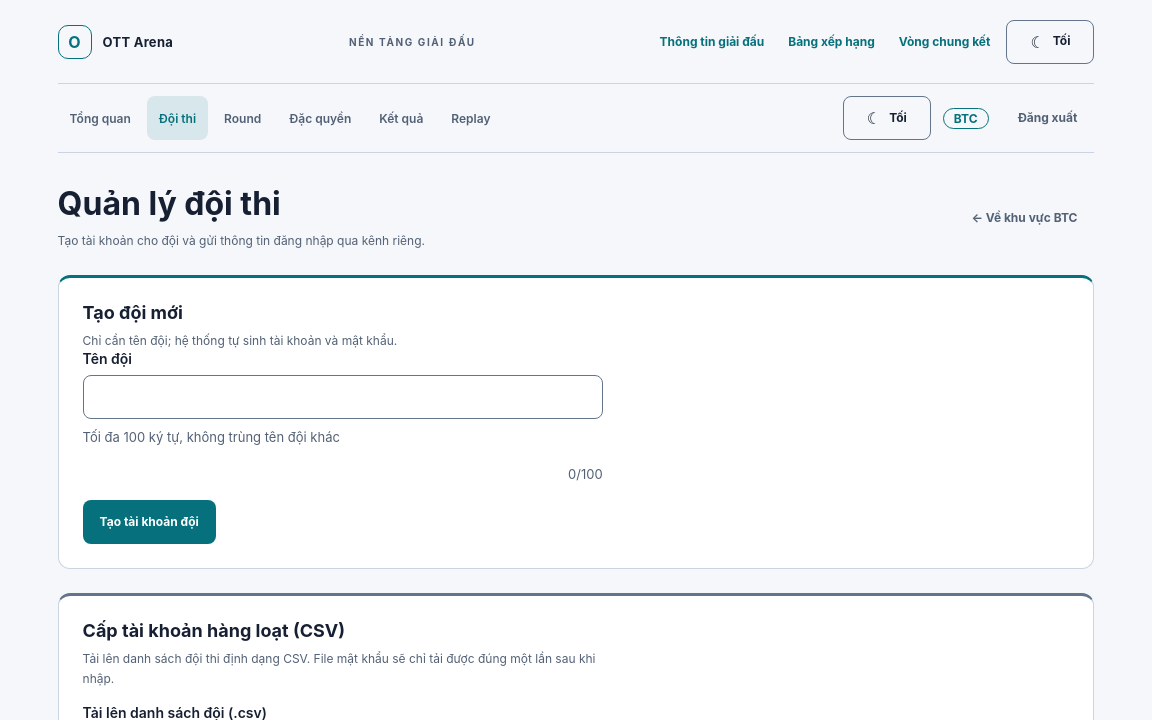
Test case: admin teams UI › shows name-taken at the field with an alert and marks it invalid
Type "Alpha" into the field labelled "Tên đội". click: point(343, 397)
box: [83,375,603,419]
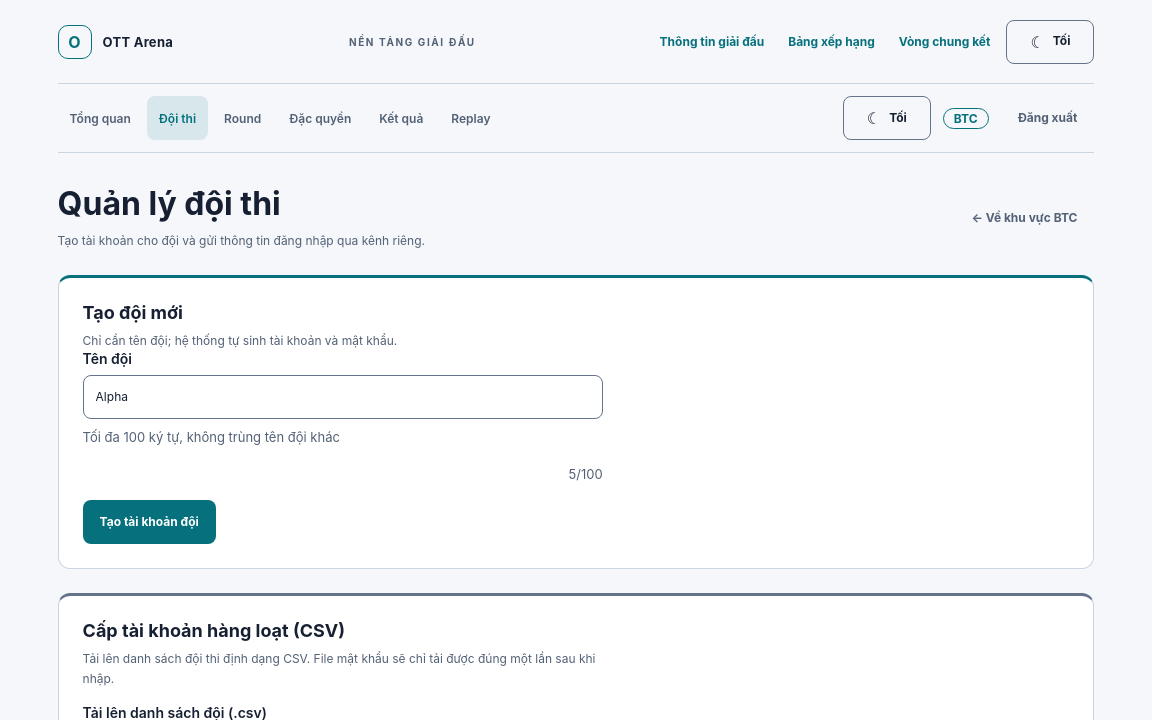
Submit the form named "tạo đội", box [83,350,603,544]
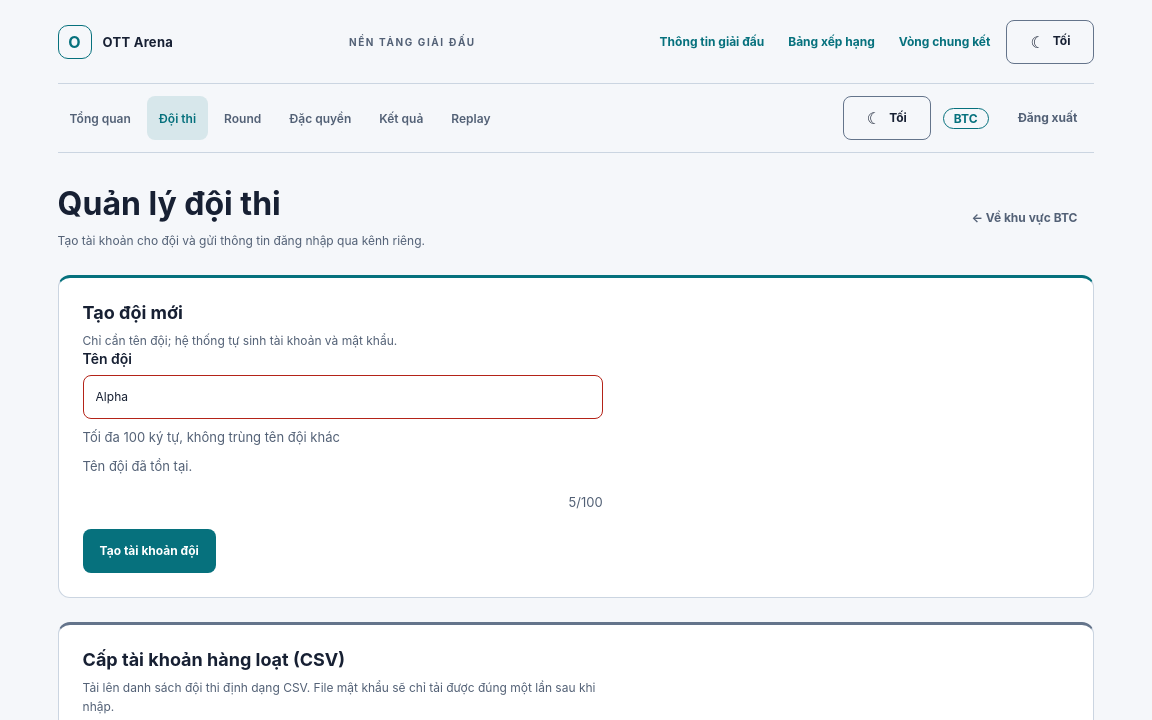
Expected: the text "Tên đội đã tồn tại." is shown, [83,458,192,474]
